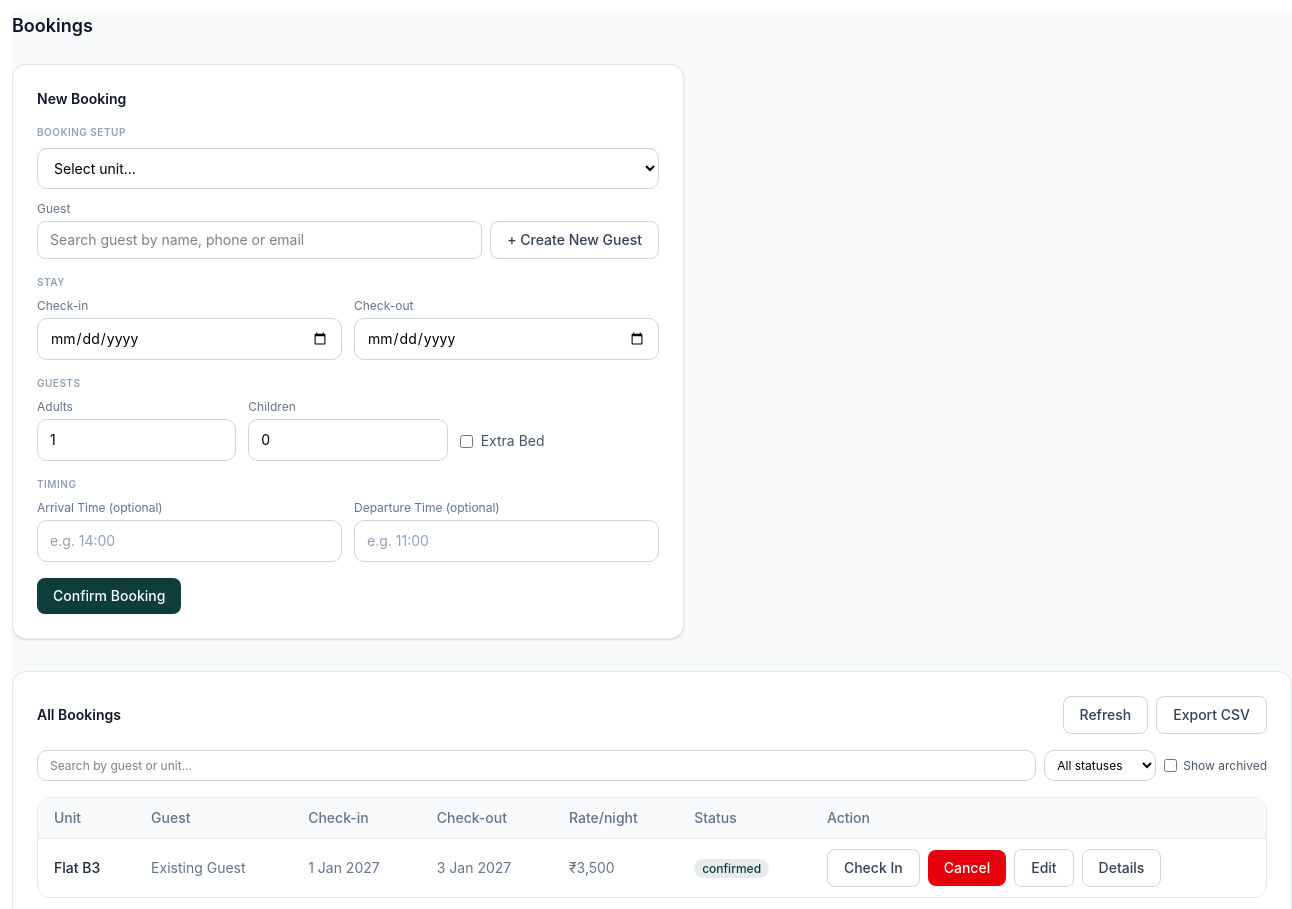
BookingsPage — All Bookings freshness (live refresh fix) › the manual Refresh button fetches the latest bookings immediately
Check: the text "Existing Guest" is shown, box [135,838,292,897]
Click the button "Refresh".
click(1105, 715)  # box [1062,696,1148,734]
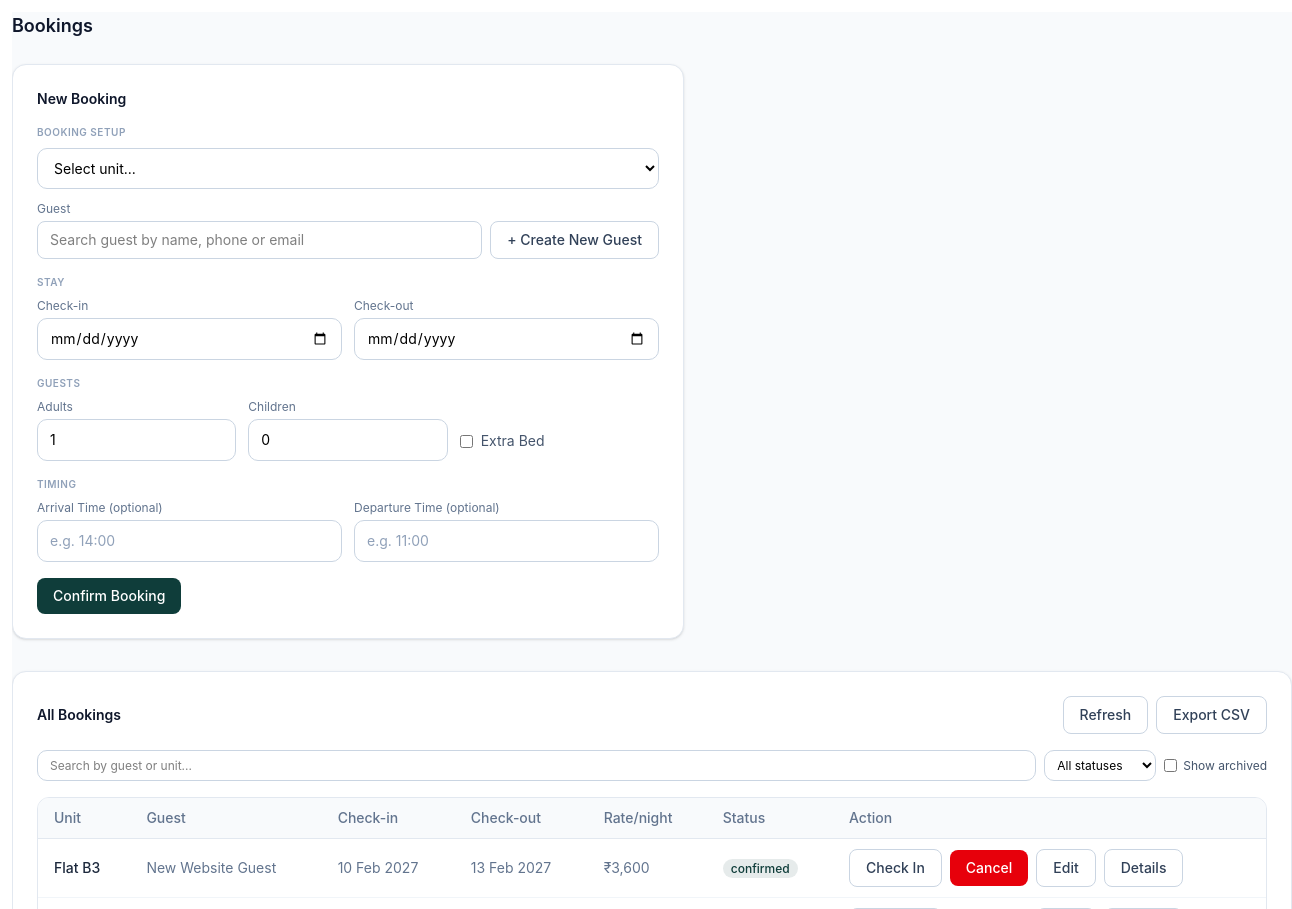
Check: the text "New Website Guest" is shown, box [130,838,322,898]
